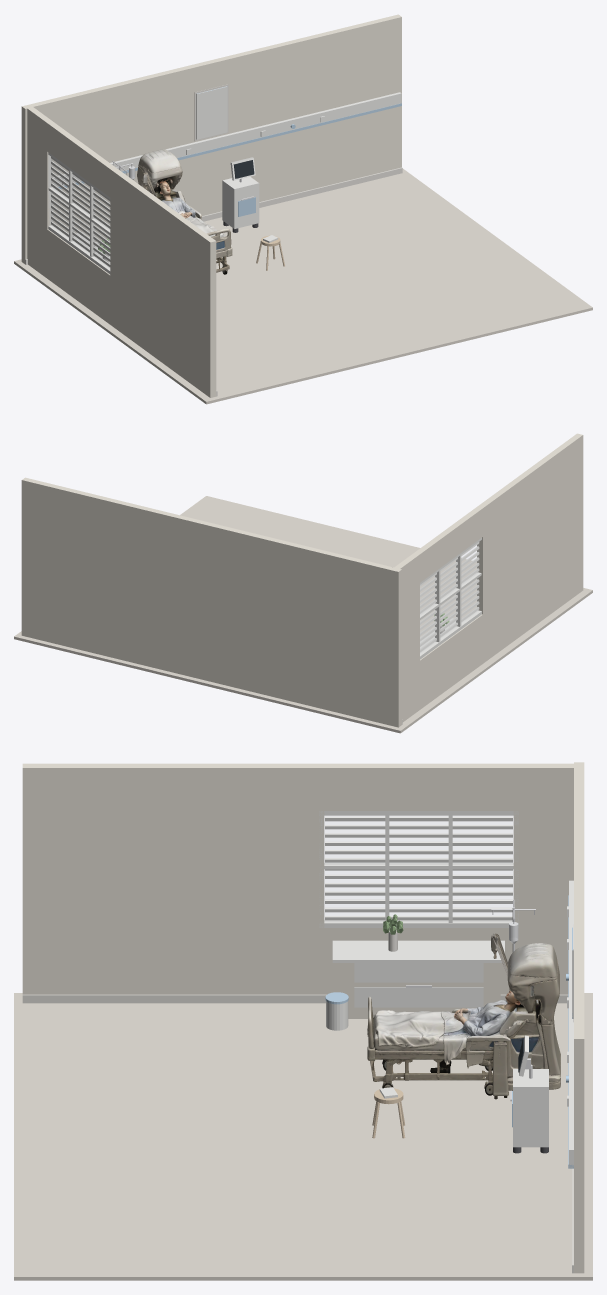
Rendered from ward.glb.
3 renders of one model, top to bottom at view 1: azimuth 30°, elevation 25°; view 2: azimuth 150°, elevation 25°; view 3: azimuth 270°, elevation 25°, orthographic. The views are drawn at different scales.
Visible parts, largest first — view 1: Floor, Wall_Back, Wall_LeftSeg, Wall_Low, Wall_High, Wall_CornerSeg, HaloWash_Main, Band_White, Poster_Base, Cart_Body, Window_Glass, Skirt_Back (+1 smaller); view 2: Wall_Back, Floor, Wall_LeftSeg, Wall_Low, Wall_High, Wall_CornerSeg, Window_Glass, WF_Sill; view 3: Floor, Wall_LeftSeg, Wall_High, HaloWash_Main, Wall_Low, Wall_CornerSeg, Window_Glass, Wall_Back, Cabinet_Top, Skirt_WindowWall, Cart_Body, Cabinet_Drawer1 (+18 smaller).
Part boxes in pixels (bbox=[...]): Floor: bbox=[14, 168, 592, 404]; Wall_Back: bbox=[21, 14, 401, 263]; Wall_LeftSeg: bbox=[110, 168, 216, 397]; Wall_Low: bbox=[47, 229, 216, 397]; Wall_High: bbox=[47, 121, 216, 270]; Wall_CornerSeg: bbox=[27, 107, 53, 278]; HaloWash_Main: bbox=[137, 149, 232, 274]; Band_White: bbox=[53, 92, 401, 186]; Poster_Base: bbox=[196, 86, 227, 139]; Cart_Body: bbox=[222, 176, 259, 228]; Window_Glass: bbox=[51, 159, 109, 264]; Skirt_Back: bbox=[25, 167, 402, 264]; Wall_Back: bbox=[21, 477, 401, 727]; Floor: bbox=[14, 496, 592, 733]; Wall_LeftSeg: bbox=[477, 433, 583, 614]; Wall_Low: bbox=[420, 541, 583, 709]; Wall_High: bbox=[414, 435, 583, 582]; Wall_CornerSeg: bbox=[394, 553, 419, 722]; Window_Glass: bbox=[420, 545, 478, 651]; WF_Sill: bbox=[420, 610, 481, 659]; Floor: bbox=[14, 993, 592, 1280]; Wall_LeftSeg: bbox=[22, 763, 324, 994]; Wall_High: bbox=[22, 763, 513, 810]; HaloWash_Main: bbox=[367, 933, 560, 1099]; Wall_Low: bbox=[22, 928, 512, 994]; Wall_CornerSeg: bbox=[513, 763, 573, 994]; Window_Glass: bbox=[325, 816, 512, 921]; Wall_Back: bbox=[574, 762, 584, 1273]; Cabinet_Top: bbox=[332, 940, 504, 962]; Skirt_WindowWall: bbox=[22, 994, 568, 1003]; Cart_Body: bbox=[513, 1069, 548, 1147]; Cabinet_Drawer1: bbox=[354, 987, 483, 1007].
Size of the model in its own units: 7.8 by 3.05 by 6.72.
13 materials, 1 textured.
